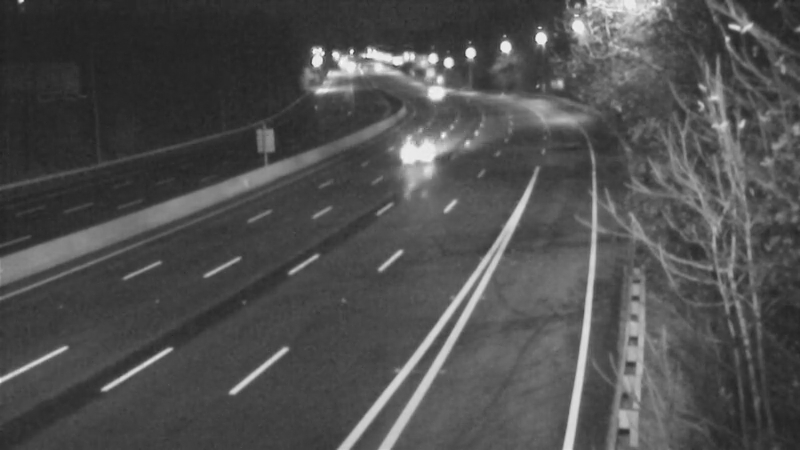vehicle: (382, 113, 462, 193), (405, 67, 455, 117)
